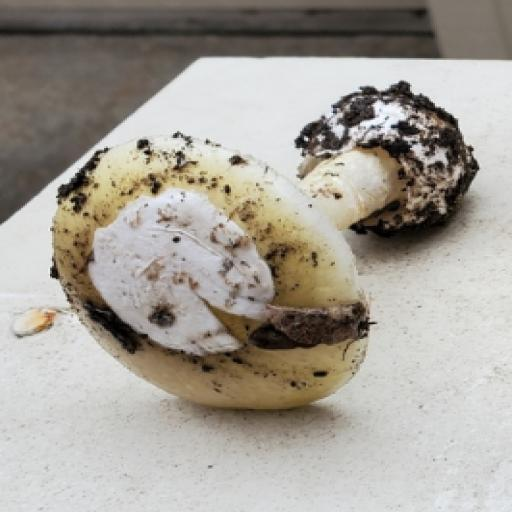mushroom: (2, 68, 421, 487), (293, 125, 415, 241)
